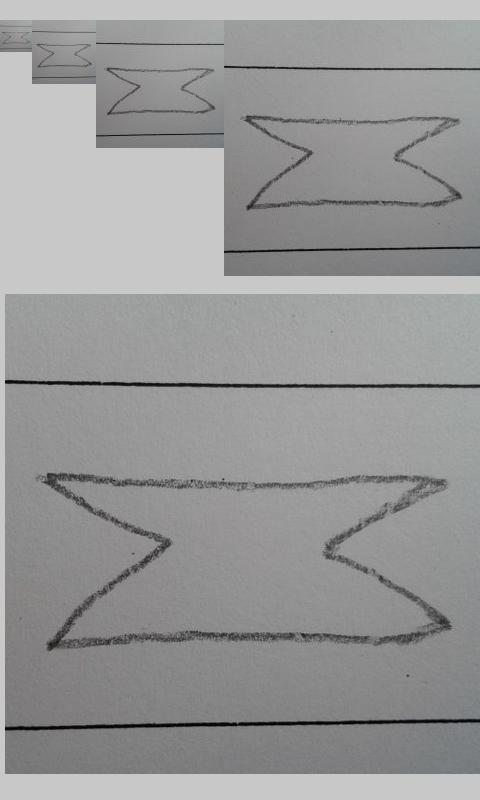edit_text: (41, 470, 450, 652), (241, 114, 461, 212), (105, 68, 215, 115), (36, 43, 92, 67), (1, 31, 30, 44)
